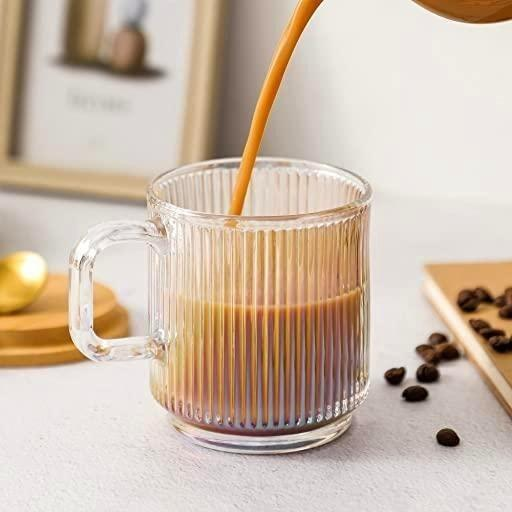glass-mug: (59, 151, 380, 460)
